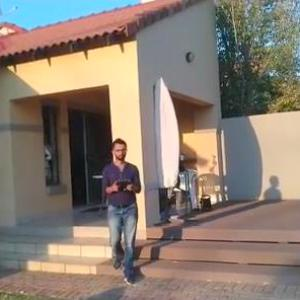follow: (101, 135, 145, 288)
